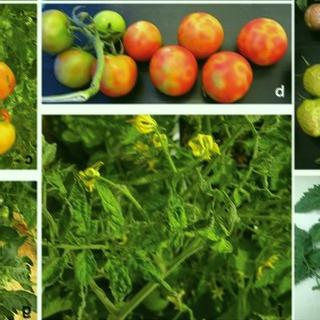Tomato leaf mosaic virus: (97, 182, 123, 238), (103, 256, 133, 304), (69, 179, 90, 239), (42, 248, 67, 285), (74, 246, 96, 287)
